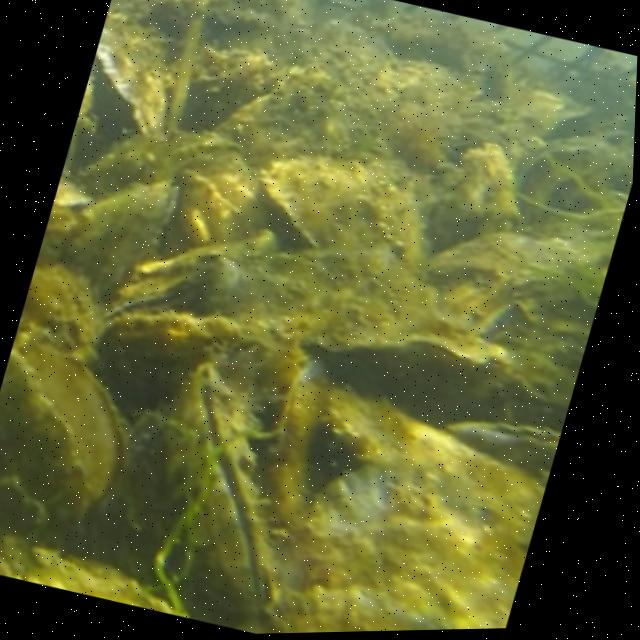Oyster-Closed: (167, 368, 270, 613), (108, 271, 205, 321), (450, 421, 561, 458)
Oyster-Indeterminate: (203, 249, 504, 368), (298, 471, 524, 629), (325, 394, 545, 538), (99, 314, 306, 416), (261, 154, 422, 268), (87, 132, 259, 237), (218, 69, 376, 170), (66, 184, 177, 297), (0, 546, 170, 614), (276, 360, 330, 520), (271, 589, 457, 633), (433, 234, 581, 288), (96, 28, 169, 136), (16, 268, 97, 359)
Oyster-Open: (0, 337, 128, 545)
